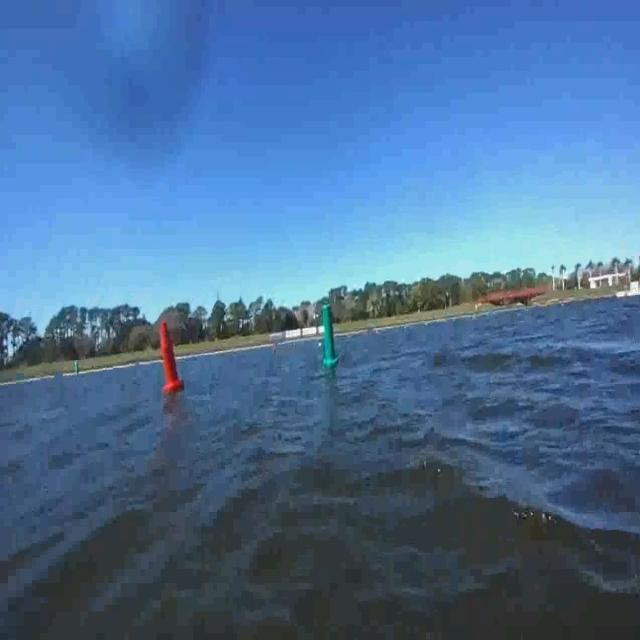green-column-buoy: (320, 304, 339, 368)
red-column-buoy: (158, 320, 184, 394)
